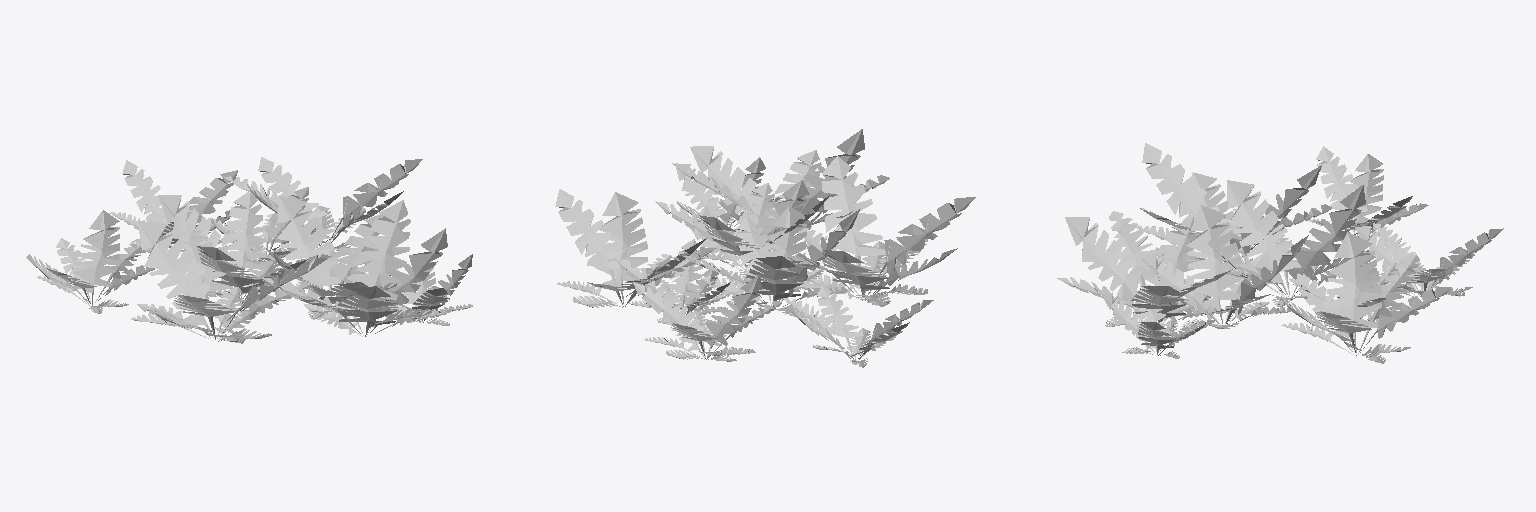
Rendered from fern_1.obj.
3 renders of one model, left to right at view 1: azimuth 30°, elevation 25°; view 2: azimuth 150°, elevation 25°; view 3: azimuth 270°, elevation 25°, orthographic.
Parts seen in each view (by area): view 1: fern.004, fern.003, fern.001; view 2: fern.003, fern.004, fern.001; view 3: fern.004, fern.001, fern.003.
Part boxes in pixels (left/top/right/bottom): fern.004: left=26, top=157, right=448, bottom=336; fern.003: left=110, top=160, right=326, bottom=343; fern.001: left=158, top=191, right=472, bottom=325; fern.003: left=615, top=156, right=975, bottom=361; fern.004: left=555, top=129, right=933, bottom=367; fern.001: left=655, top=157, right=859, bottom=316; fern.004: left=1057, top=146, right=1451, bottom=363; fern.001: left=1101, top=180, right=1368, bottom=358; fern.003: left=1136, top=143, right=1503, bottom=322.
Bounding box in the file's own units: 9.8 × 2.42 × 10.08.